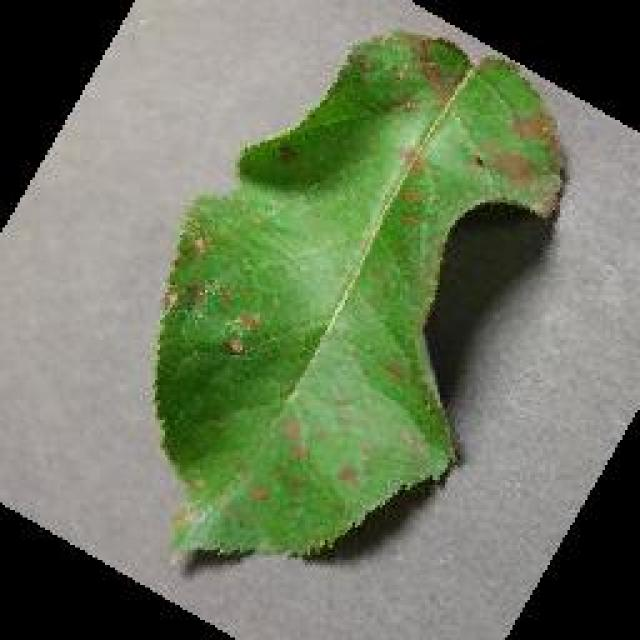apple cedar apple rust: (150, 25, 568, 567)
